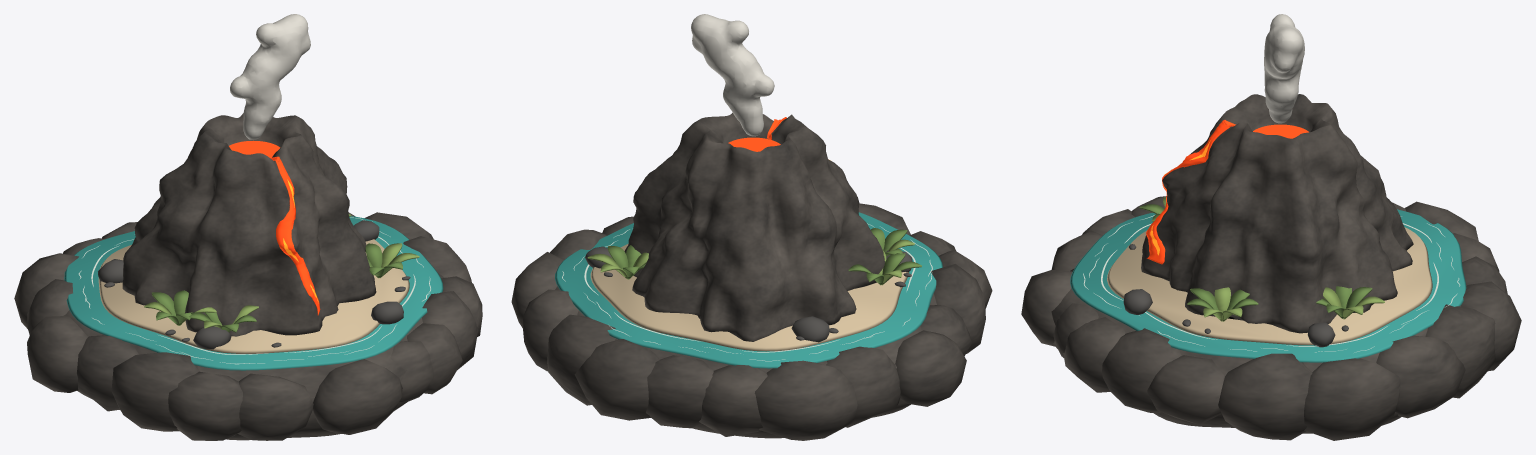
Rendered from volcano-island-v12.fbx.
3 views of the same model, side by side, from view 1: azimuth 30°, elevation 25°; view 2: azimuth 150°, elevation 25°; view 3: azimuth 270°, elevation 25° (orthographic). The views are drawn at different scales.
Visible parts, largest first — view 1: RUNTIME | Rock | weathered charcoal basalt, Volcano | hollow fluted mountain.001, RUNTIME | Water | lagoon teal, RUNTIME | Sand | warm ivory, RUNTIME | Smoke | soft warm ivory, RUNTIME | Rock | dark crater, RUNTIME | Lava | warm coral, RUNTIME | Plant | coastal olive, RUNTIME | Plant | coastal sage, RUNTIME | Water | ivory foam; view 2: RUNTIME | Rock | weathered charcoal basalt, Volcano | hollow fluted mountain.001, RUNTIME | Water | lagoon teal, RUNTIME | Sand | warm ivory, RUNTIME | Smoke | soft warm ivory, RUNTIME | Plant | coastal olive, RUNTIME | Rock | dark crater, RUNTIME | Plant | coastal sage, RUNTIME | Water | ivory foam, RUNTIME | Lava | warm coral; view 3: RUNTIME | Rock | weathered charcoal basalt, Volcano | hollow fluted mountain.001, RUNTIME | Water | lagoon teal, RUNTIME | Sand | warm ivory, RUNTIME | Smoke | soft warm ivory, RUNTIME | Plant | coastal olive, RUNTIME | Lava | warm coral, RUNTIME | Rock | dark crater, RUNTIME | Plant | coastal sage, RUNTIME | Water | ivory foam.
Boxes of the visible parts, x1,y1,x2,y2 form: RUNTIME | Rock | weathered charcoal basalt: (14,212,482,440); Volcano | hollow fluted mountain.001: (122,113,376,336); RUNTIME | Water | lagoon teal: (64,216,443,370); RUNTIME | Sand | warm ivory: (98,239,409,353); RUNTIME | Smoke | soft warm ivory: (230,14,310,139); RUNTIME | Rock | dark crater: (98,220,410,349); RUNTIME | Lava | warm coral: (229,140,320,315); RUNTIME | Plant | coastal olive: (151,214,402,332); RUNTIME | Plant | coastal sage: (144,243,419,328); RUNTIME | Water | ivory foam: (78,217,430,364); RUNTIME | Rock | weathered charcoal basalt: (511,203,992,440); Volcano | hollow fluted mountain.001: (624,113,884,341); RUNTIME | Water | lagoon teal: (555,212,942,368); RUNTIME | Sand | warm ivory: (590,243,909,351); RUNTIME | Smoke | soft warm ivory: (691,14,774,136); RUNTIME | Plant | coastal olive: (607,228,921,285); RUNTIME | Rock | dark crater: (585,246,912,342); RUNTIME | Plant | coastal sage: (587,239,914,285); RUNTIME | Water | ivory foam: (562,223,932,361); RUNTIME | Lava | warm coral: (728,117,786,151); RUNTIME | Rock | weathered charcoal basalt: (1021,196,1521,440); Volcano | hollow fluted mountain.001: (1141,94,1413,333); RUNTIME | Water | lagoon teal: (1070,209,1466,362); RUNTIME | Sand | warm ivory: (1107,227,1432,345); RUNTIME | Smoke | soft warm ivory: (1264,14,1304,123); RUNTIME | Plant | coastal olive: (1139,204,1372,319); RUNTIME | Lava | warm coral: (1146,120,1308,264); RUNTIME | Rock | dark crater: (1123,244,1348,347); RUNTIME | Plant | coastal sage: (1163,197,1384,321); RUNTIME | Water | ivory foam: (1083,215,1460,352).
Size of the model in its own units: 177 by 137 by 178.
11 materials, 2 textured.
